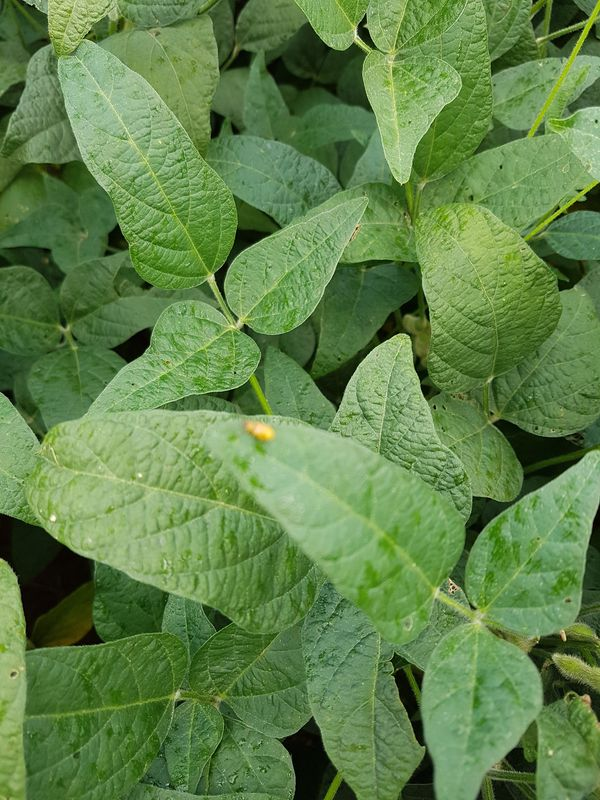Diabrotica_speciosa: (233, 408, 285, 453)
